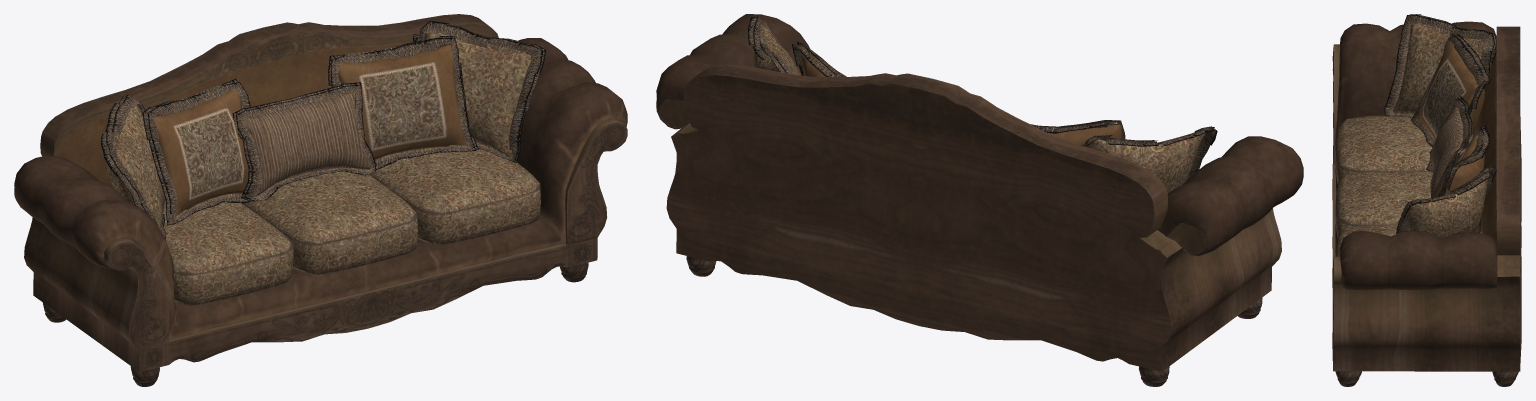
Rendered from sofa_03_1k.obj.
The picture shows the model from 3 angles, left to right: view 1: azimuth 30°, elevation 25°; view 2: azimuth 150°, elevation 25°; view 3: azimuth 270°, elevation 25°; orthographic projection. The views are drawn at different scales.
Parts seen in each view (by area): view 1: sofa_03; view 2: sofa_03; view 3: sofa_03.
Part boxes in pixels (x1,y1,x2,y2): sofa_03: (14,14,627,386); sofa_03: (656,14,1303,386); sofa_03: (1332,14,1521,386).
Size of the model in its own units: 2.73 by 1.12 by 0.9251.
